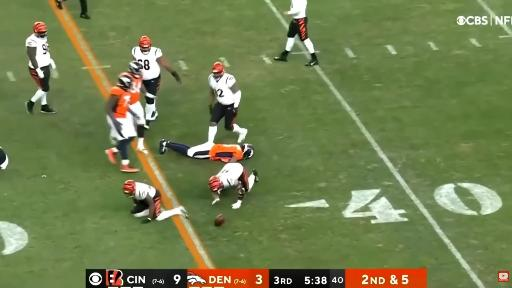Helmet: (117, 73, 133, 90), (33, 22, 47, 38), (129, 61, 143, 77), (139, 36, 151, 53), (209, 176, 222, 191), (123, 179, 135, 195), (212, 62, 224, 78), (242, 144, 254, 159)
Jersey: (132, 47, 162, 80), (209, 73, 235, 105), (26, 34, 51, 67), (217, 163, 244, 188), (111, 87, 131, 118), (209, 144, 243, 162), (134, 183, 156, 200), (130, 76, 142, 104), (290, 0, 307, 18)
Player: (132, 36, 181, 128), (106, 73, 138, 172), (208, 62, 247, 142), (275, 0, 318, 66), (26, 22, 56, 114), (123, 180, 187, 223), (209, 162, 258, 208), (159, 140, 254, 162), (128, 61, 147, 153)
